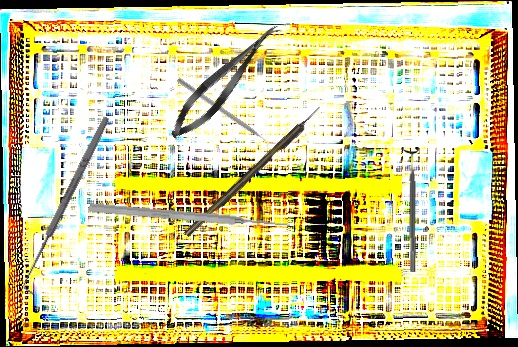Chopper: (173, 77, 273, 152)
Fixation Ring: (400, 146, 423, 273)
Hook Surgical: (182, 105, 325, 238), (16, 114, 118, 296)
Micro Scissor: (162, 15, 288, 147)
Pusher: (88, 201, 291, 232)
